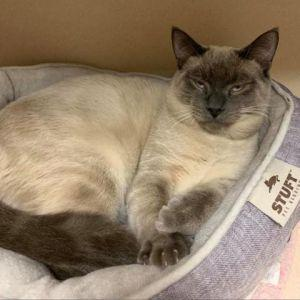siamese: (163, 21, 285, 146)
